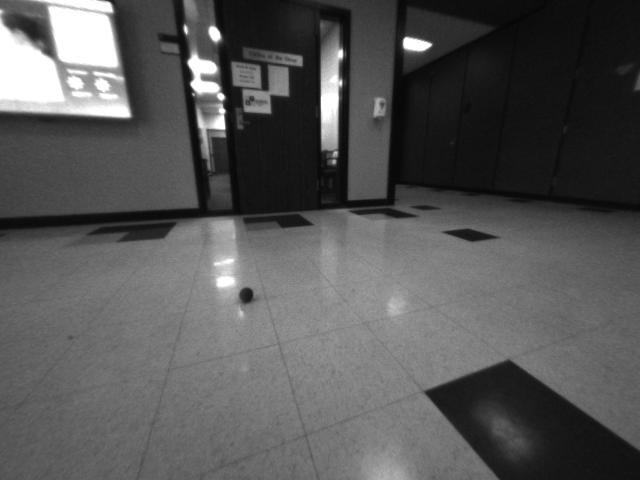dogtoy: (234, 282, 258, 307)
